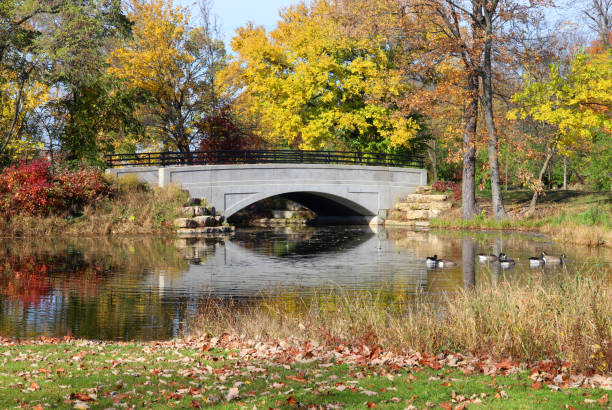goose: (475, 250, 506, 261), (528, 249, 547, 265), (546, 251, 568, 261), (424, 253, 439, 266)
